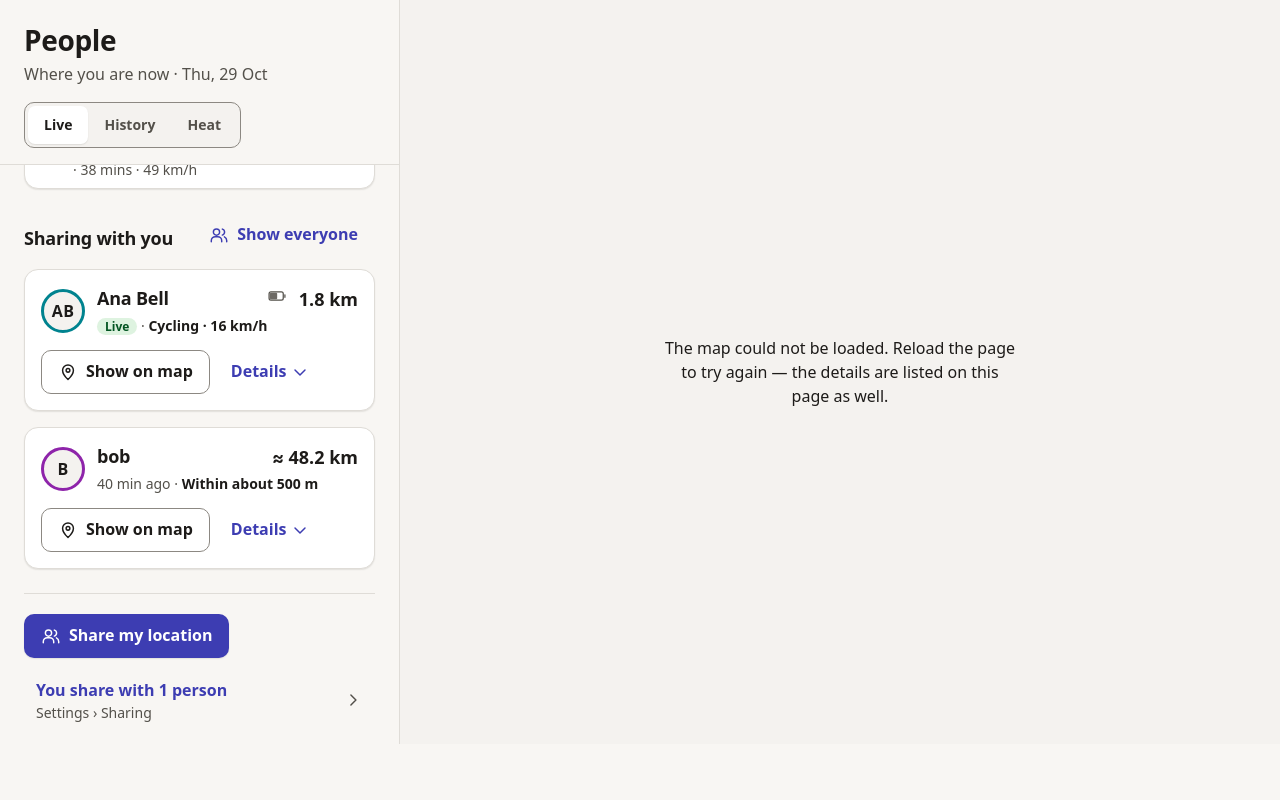
Scenario: the People page's list › keeps each shared device, the share's terms and the other actions in Details
The width and height of the screenshot is (1280, 800).
(page scrolled)
Click the button "Details" below "Cycling · 16 km/h" at (271, 372), box [218,350,324,394]
(page scrolled)
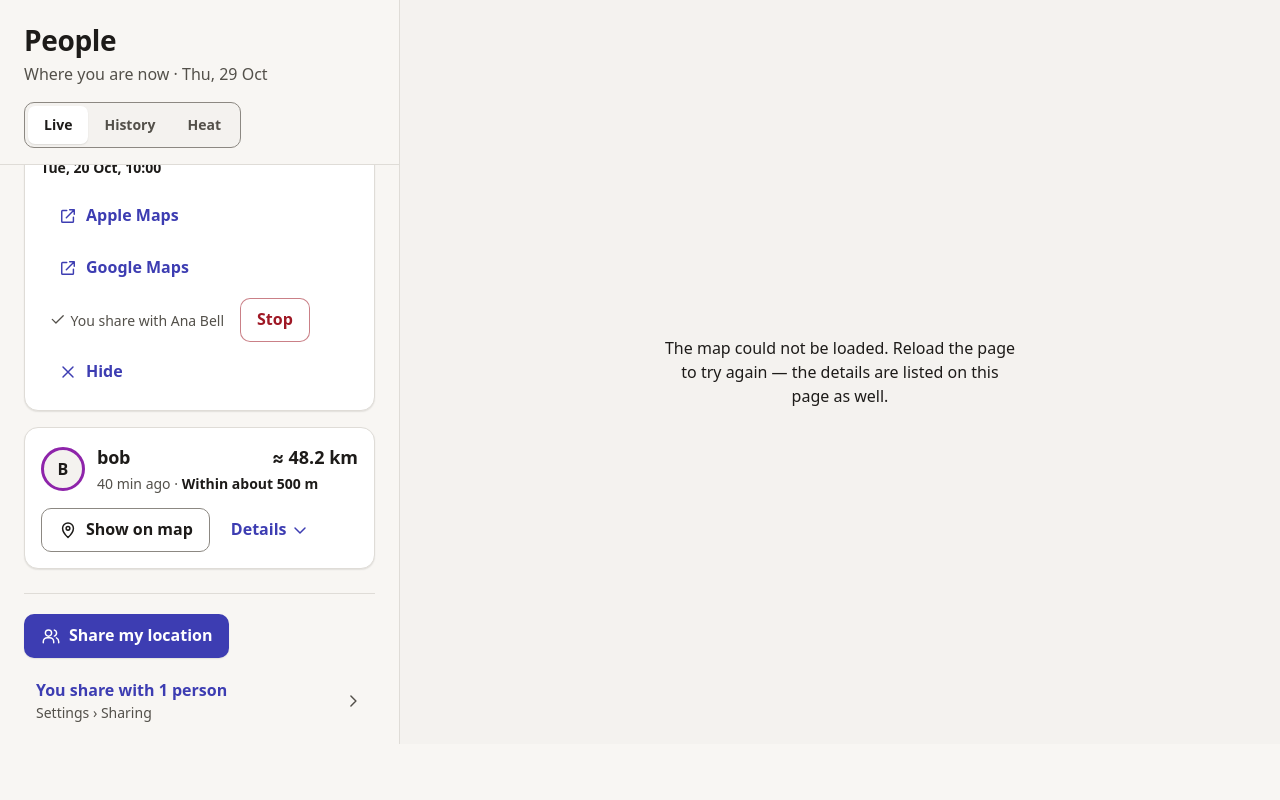
Check: the text "Precise location" is shown, box [41,60,151,79]
Check: the text "You share with Ana Bell" is shown, box [49,311,224,330]
Check: the button with aria-label "Hide Ana Bell" is shown, box [41,350,140,394]
